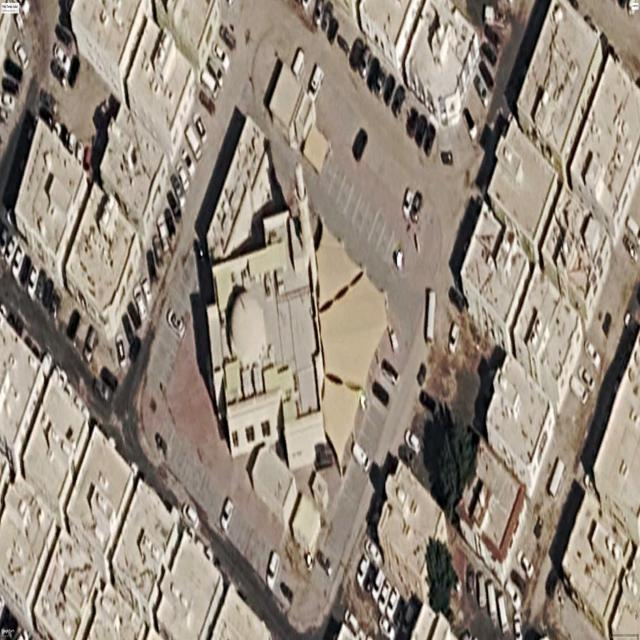Home: (209, 164, 326, 455)
